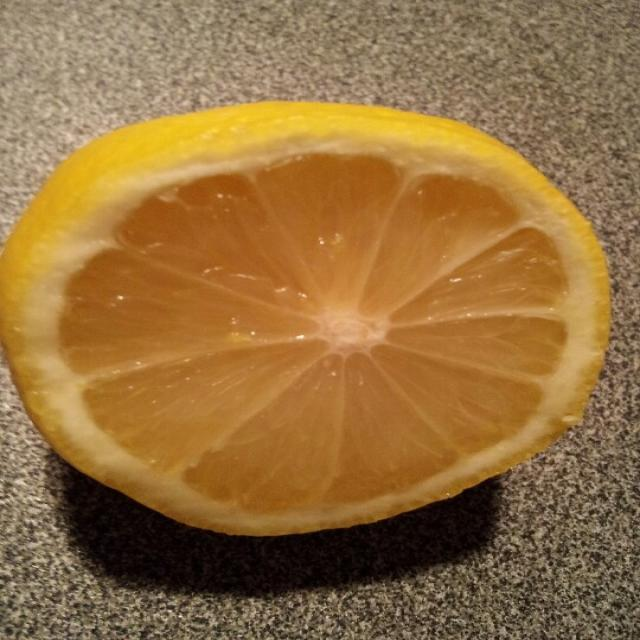lemon: (0, 104, 609, 535)
